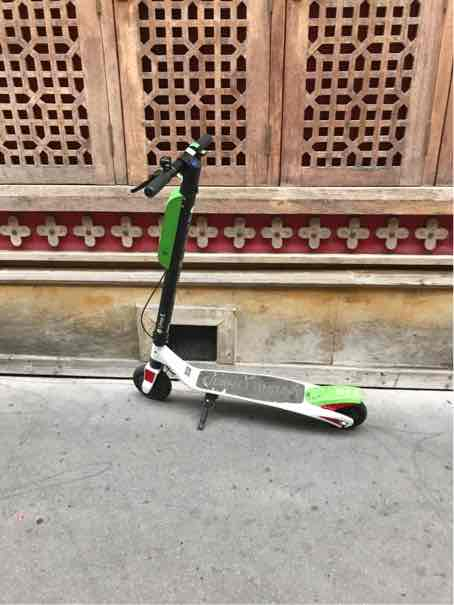scooter: (127, 121, 374, 445)
